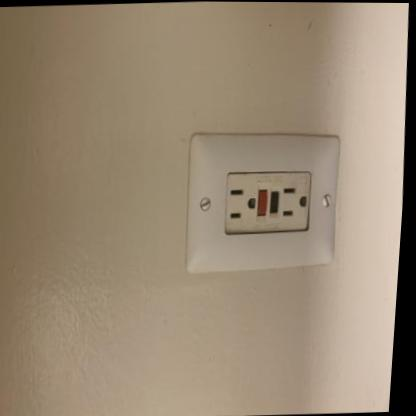OUTLET: (180, 127, 343, 270)
